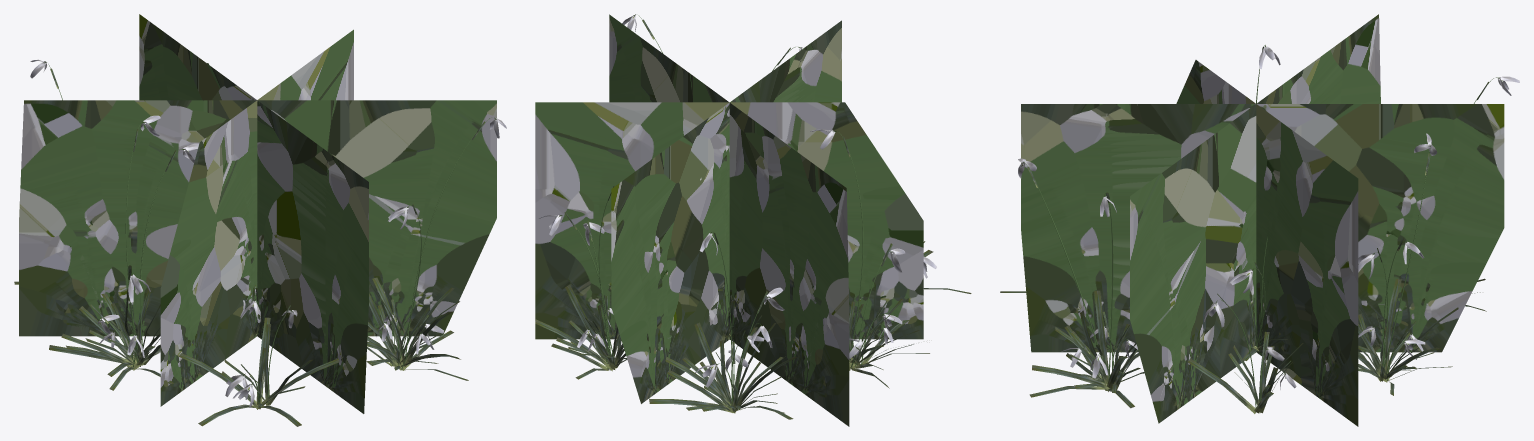
File: PW_Snowdrop_1.fbx
3 views of the same model, side by side, from view 1: azimuth 30°, elevation 25°; view 2: azimuth 150°, elevation 25°; view 3: azimuth 270°, elevation 25° (orthographic). The views are drawn at different scales.
Visible parts, largest first — view 1: Billboard, LOD0; view 2: Billboard, LOD0; view 3: Billboard, LOD0.
Boxes of the visible parts, x1,y1,x2,y2 form: Billboard: (19,14,496,413); LOD0: (14,59,506,426); Billboard: (535,14,923,426); LOD0: (535,14,971,419); Billboard: (1021,14,1504,426); LOD0: (1000,45,1519,413).
Size of what is drawn, in the model's own units: 56.29 by 34.08 by 63.97.
